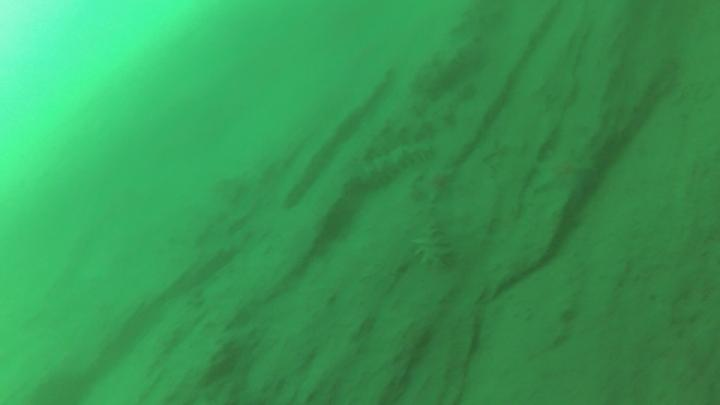holothurian: (404, 186, 457, 274), (349, 141, 435, 181)
